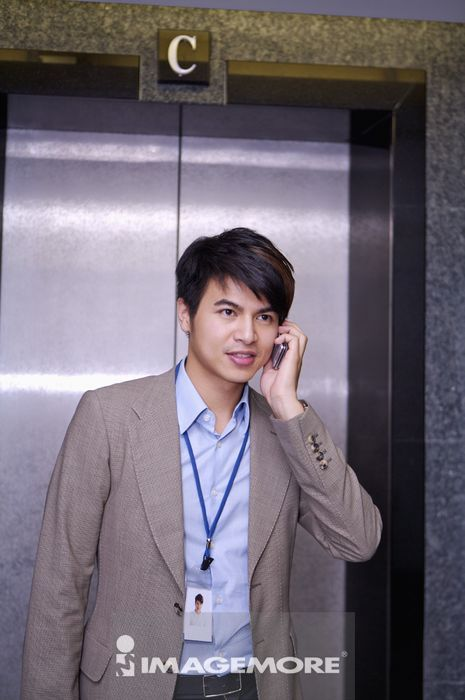talk: (203, 297, 306, 411)
